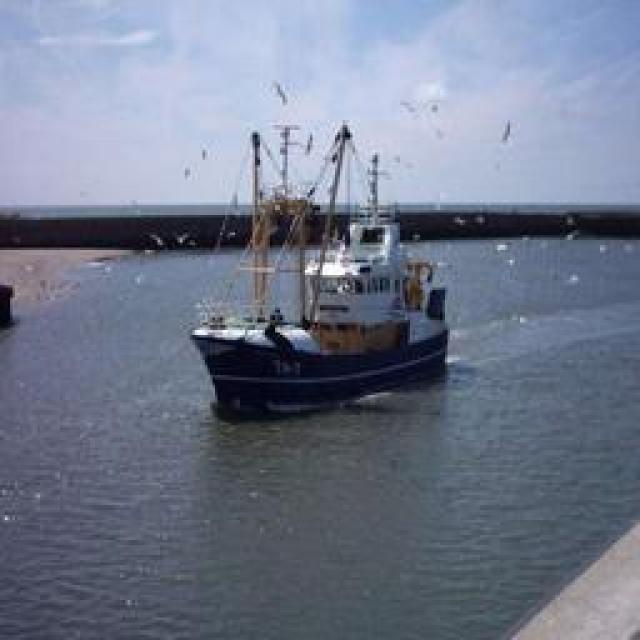CIV_Ship: (192, 119, 452, 414)
